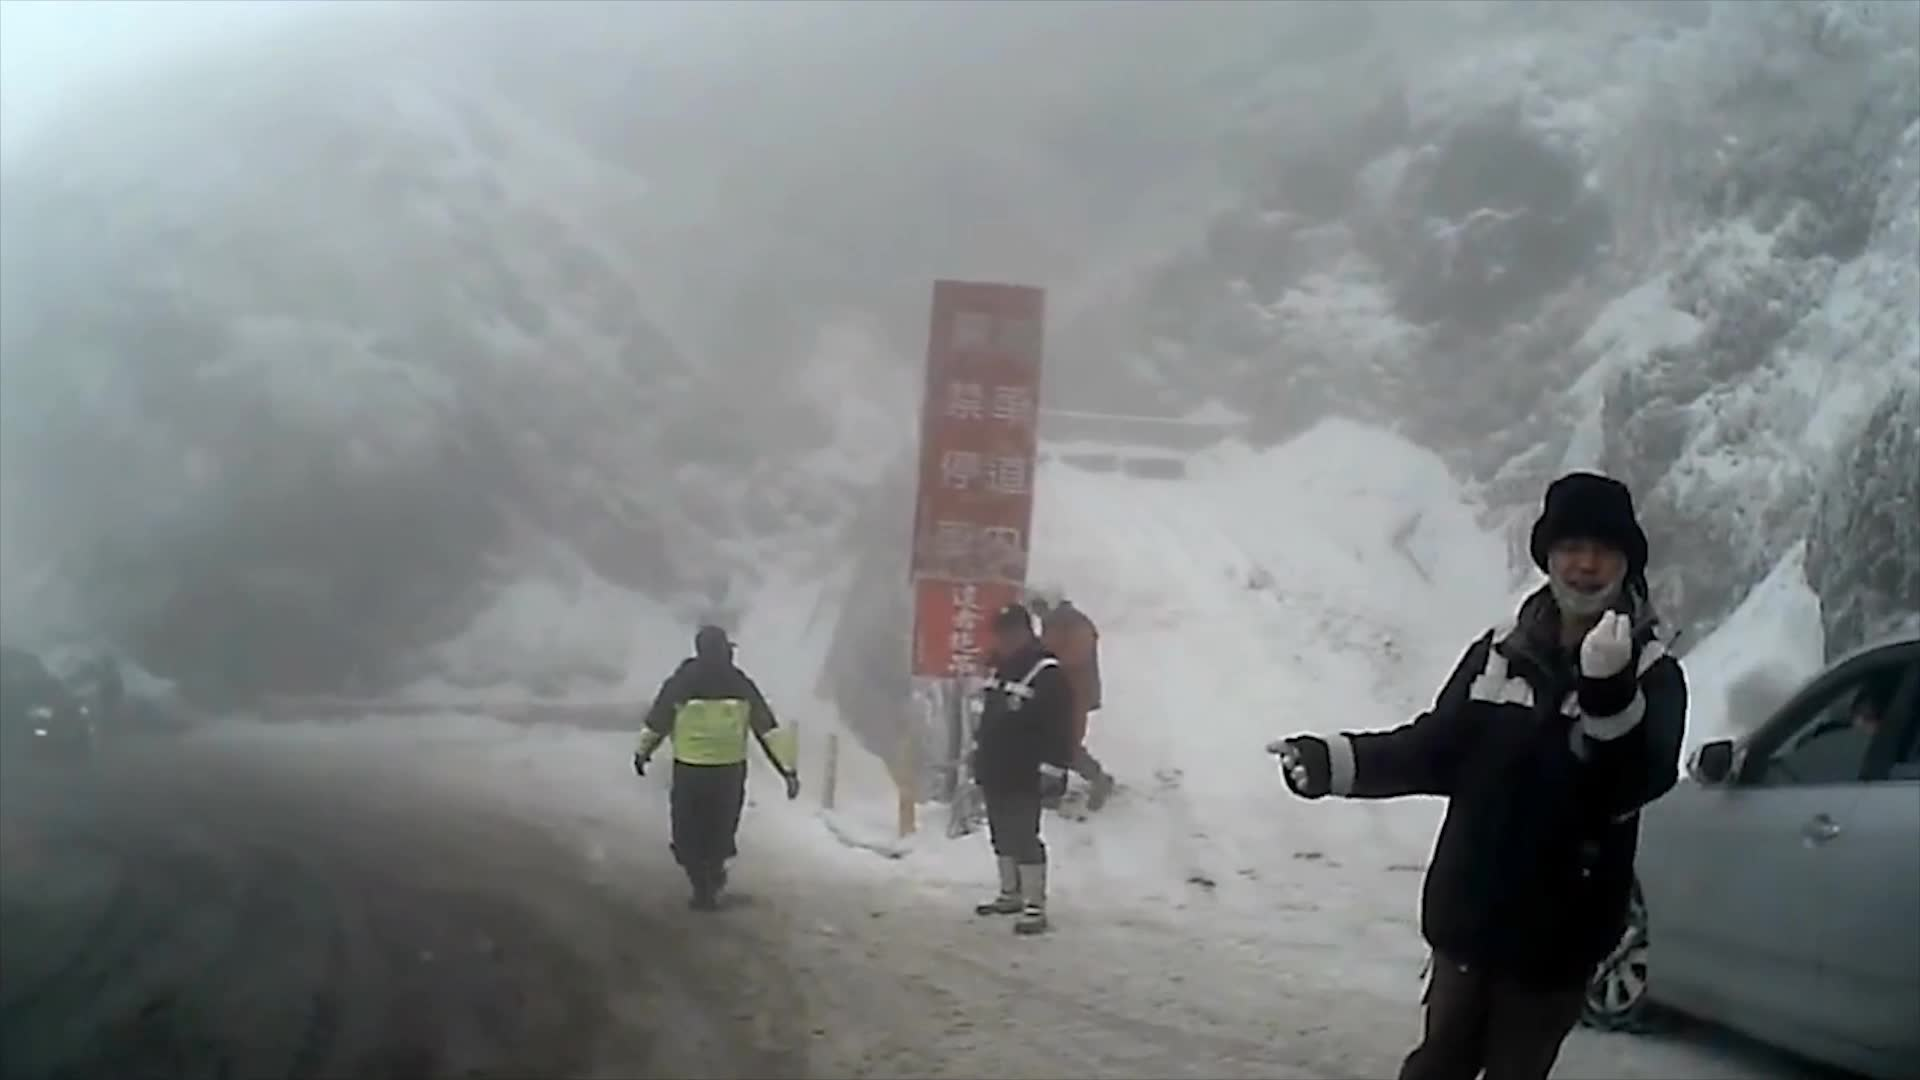pedestrian: (1263, 472, 1682, 1078), (635, 633, 792, 907), (974, 603, 1081, 933), (1024, 575, 1118, 814)
vehicle: (1522, 634, 1919, 1079)
